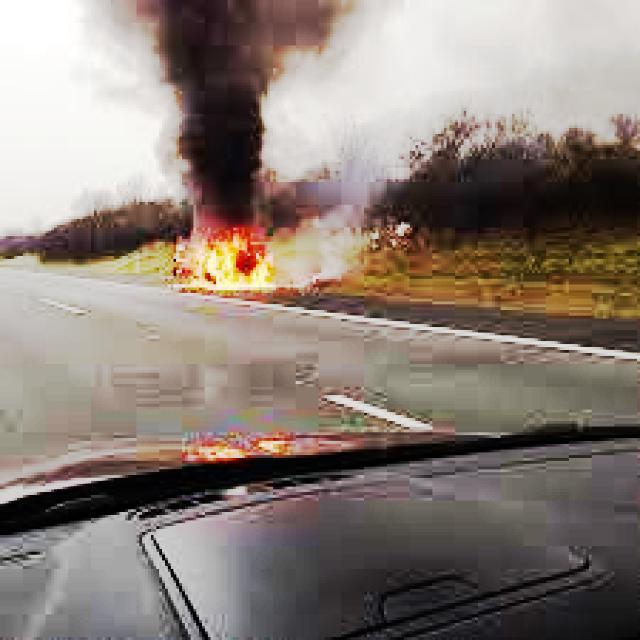api: (155, 220, 291, 303)
